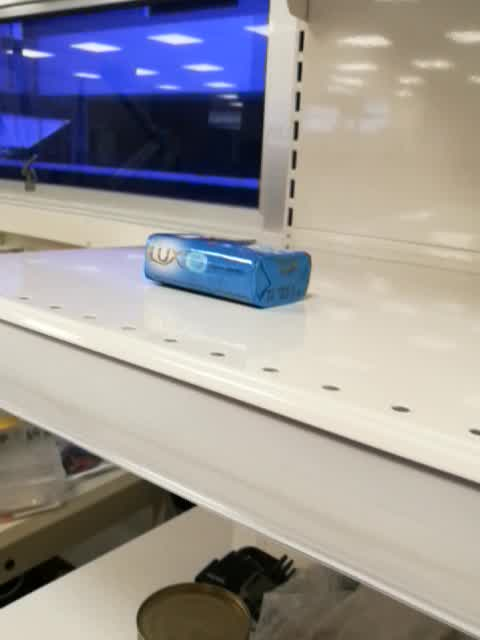soap: (143, 229, 314, 311)
